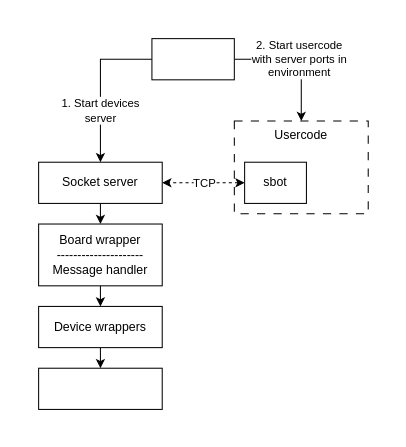
Some shapes in this 406 by 447 pixel diagram are drawn without their labels. Each missing label, with the centre of its shape:
"Usercode runner" belongs at point (192, 59).
"Webot devices" belongs at point (100, 388).
